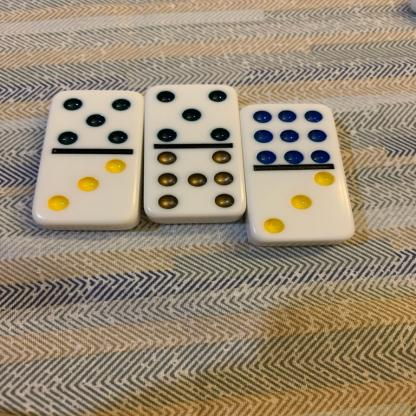pip-3: (246, 168, 354, 241), (34, 152, 138, 220)
pip-5: (142, 84, 240, 145), (51, 90, 142, 152)
pip-7: (145, 146, 244, 214)
pip-9: (240, 102, 340, 165)
